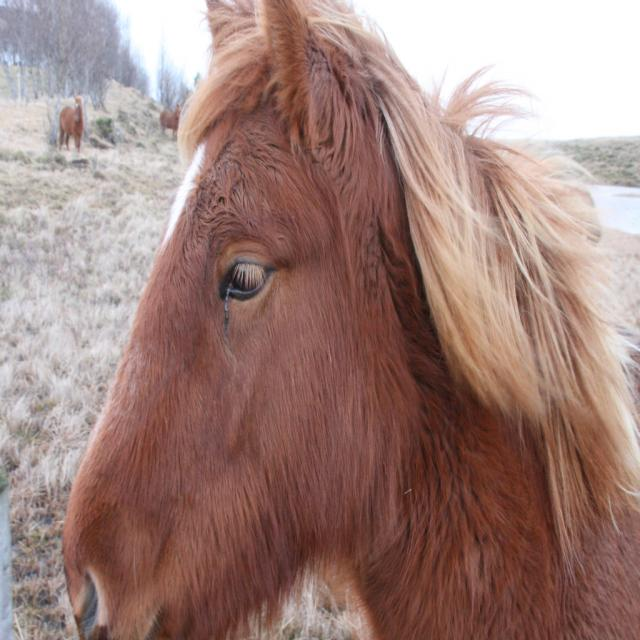Horse: (62, 0, 639, 639), (58, 97, 83, 154), (159, 100, 182, 142)
